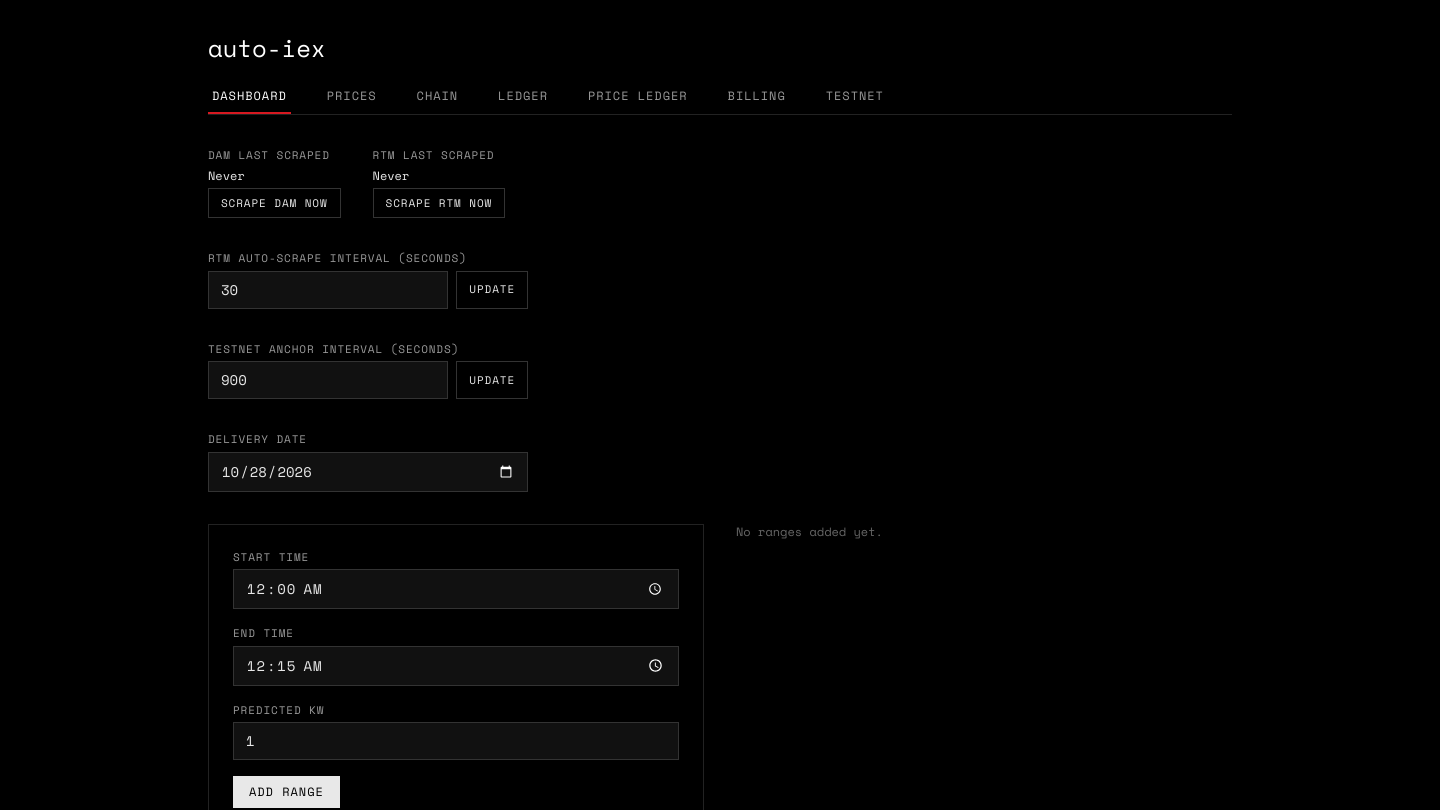
Scenario: App › switches to the Chain tab on click
Click the tab "Chain": coordinates (437, 101) [413,88,462,114]
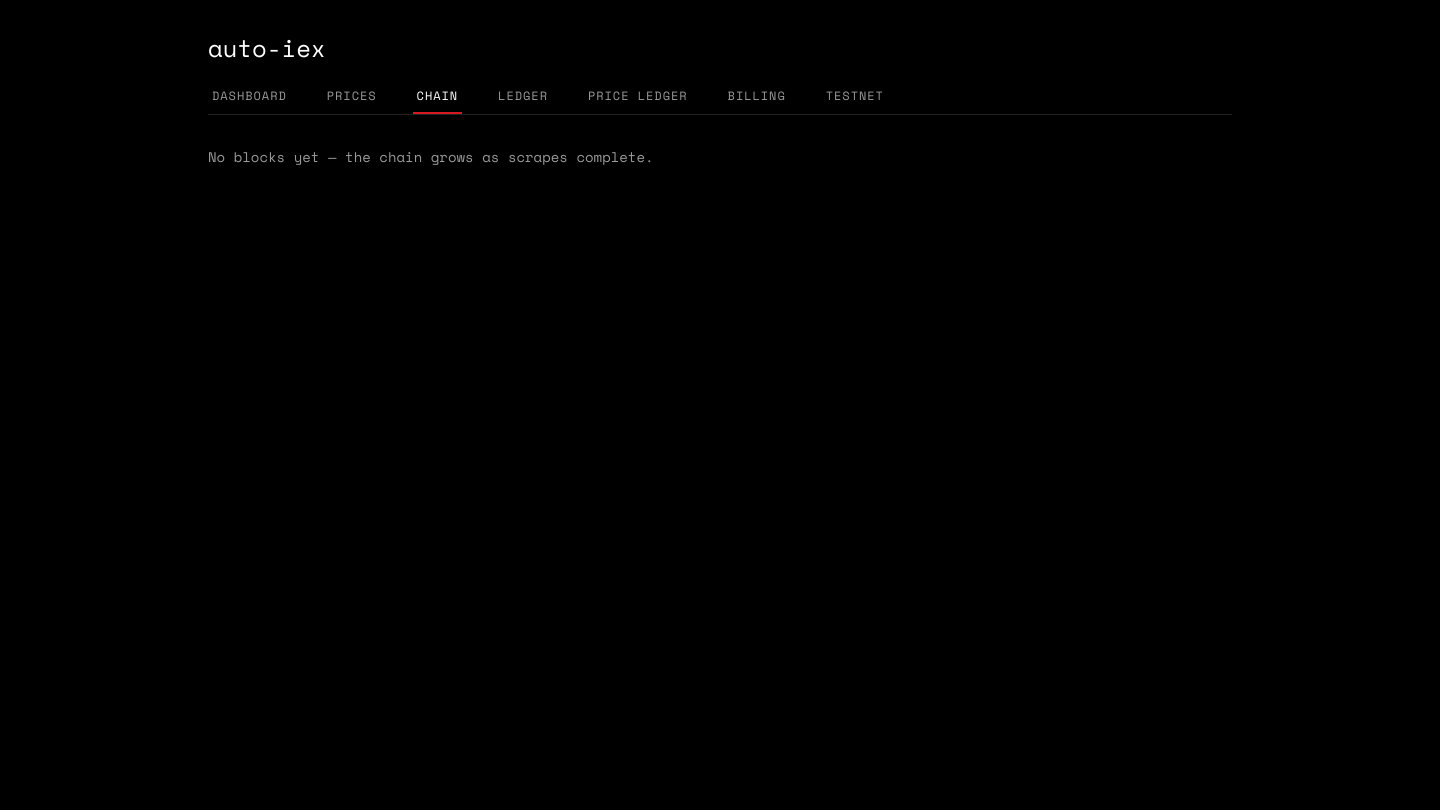
Check: the text "No blocks yet — the chain grows as scrapes complete." is shown, box [208,146,654,167]
